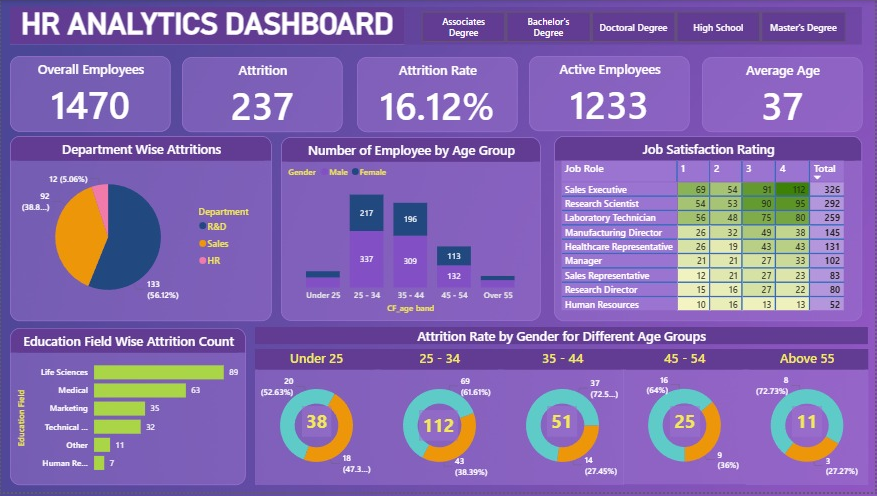

Layout of this report page (visuals, bound fields, positions):
{"tool":"powerbi","page":{"name":"Page 1","canvas":[1280,720],"ordinal":0},"visuals":[{"type":"card","title":"Overall Employees","fields":{"Values":["Sum(HR data.Employee Count)"]},"box":[13,82.1,235,110.9],"z":0},{"type":"card","title":"Attrition","fields":{"Values":["Sum(HR data.Attrition Count)"]},"box":[265,83.5,234.7,110],"z":1000},{"type":"card","title":"Attrition Rate","fields":{"Values":["HR data.Attrition Rate"]},"box":[521.3,83.5,234.7,110],"z":2000},{"type":"card","title":"Active Employees","fields":{"Values":["HR data.Active Employees"]},"box":[773.3,82.1,235,110],"z":3000},{"type":"card","title":"Average Age","fields":{"Values":["Avg(HR data.Age)"]},"box":[1025.3,83.5,235,110],"z":4000},{"type":"pieChart","title":"Department Wise Attritions","fields":{"Category":["HR data.Department"],"Y":["Sum(HR data.Attrition Count)"]},"box":[13,198.7,383,270.7],"z":5000},{"type":"columnChart","title":"Number of Employee by Age Group","fields":{"Category":["HR data.CF_age band"],"Y":["Sum(HR data.Employee Count)"],"Series":["HR data.Gender"]},"box":[410.4,200.2,380.2,269.3],"z":6000},{"type":"pivotTable","title":"Job Satisfaction Rating","fields":{"Rows":["HR data.Job Role"],"Values":["Sum(HR data.Employee Count)"],"Columns":["HR data.Job Satisfaction"]},"box":[809.3,198.7,450.7,270.7],"z":7000},{"type":"barChart","title":"Education Field Wise Attrition Count ","fields":{"Category":["HR data.Education Field"],"Y":["Sum(HR data.Attrition Count)"]},"box":[13,480,345,230],"z":8000},{"type":"donutChart","title":"Under 25","fields":{"Category":["HR data.Gender"],"Y":["Sum(HR data.Attrition Count)"],"Series":["HR data.CF_age band"]},"box":[371.5,511.2,180,198.7],"z":9000},{"type":"textbox","title":"Attrition Rate by Gender for Different Age Groups","box":[371.2,478.7,897,25],"z":10000},{"type":"donutChart","title":"25 - 34","fields":{"Category":["HR data.Gender"],"Y":["Sum(HR data.Attrition Count)"],"Series":["HR data.CF_age band"]},"box":[551,511.2,180,198.7],"z":11000},{"type":"donutChart","title":"35 - 44","fields":{"Category":["HR data.Gender"],"Y":["Sum(HR data.Attrition Count)"],"Series":["HR data.CF_age band"]},"box":[731.5,511.2,180,198.7],"z":12000},{"type":"donutChart","title":"45 - 54","fields":{"Category":["HR data.Gender"],"Y":["Sum(HR data.Attrition Count)"],"Series":["HR data.CF_age band"]},"box":[910.4,511,180,198],"z":13000},{"type":"donutChart","title":"Above 55","fields":{"Category":["HR data.Gender"],"Y":["Sum(HR data.Attrition Count)"],"Series":["HR data.CF_age band"]},"box":[1090.1,511.2,178.6,198.7],"z":14000},{"type":"card","title":"Attrition","fields":{"Values":["Sum(HR data.Attrition Count)"]},"box":[440.1,594.6,43,45],"z":15000},{"type":"card","title":"Attrition","fields":{"Values":["Sum(HR data.Attrition Count)"]},"box":[611,600,57.1,45.4],"z":16000},{"type":"card","title":"Attrition","fields":{"Values":["Sum(HR data.Attrition Count)"]},"box":[799.6,594.6,43.7,45.4],"z":17000},{"type":"card","title":"Attrition","fields":{"Values":["Sum(HR data.Attrition Count)"]},"box":[979.3,594.6,43.7,45.4],"z":18000},{"type":"card","title":"Attrition","fields":{"Values":["Sum(HR data.Attrition Count)"]},"box":[1157.4,594.6,43.7,45.4],"z":19000},{"type":"textbox","title":"HR ANALYTICS DASHBOARD","box":[13,10.1,577.4,54.7],"z":20000},{"type":"slicer","fields":{"Values":["HR data.Education"]},"box":[590.4,10.1,669.6,54.7],"z":21000}]}

Visuals, with their boxes in screenshot pixels (x1, y1, x2, y2), scaled from the page's 1280x720 canvas onto the 877x496 screenshot:
"Overall Employees" card: x1=9 y1=57 x2=170 y2=133
"Attrition" card: x1=182 y1=58 x2=342 y2=133
"Attrition Rate" card: x1=357 y1=58 x2=518 y2=133
"Active Employees" card: x1=530 y1=57 x2=691 y2=132
"Average Age" card: x1=702 y1=58 x2=864 y2=133
"Department Wise Attritions" pieChart: x1=9 y1=137 x2=271 y2=323
"Number of Employee by Age Group" columnChart: x1=281 y1=138 x2=542 y2=323
"Job Satisfaction Rating" pivotTable: x1=554 y1=137 x2=863 y2=323
"Education Field Wise Attrition Count " barChart: x1=9 y1=331 x2=245 y2=489
"Under 25" donutChart: x1=255 y1=352 x2=378 y2=489
"Attrition Rate by Gender for Different Age Groups" textbox: x1=254 y1=330 x2=869 y2=347
"25 - 34" donutChart: x1=378 y1=352 x2=501 y2=489
"35 - 44" donutChart: x1=501 y1=352 x2=625 y2=489
"45 - 54" donutChart: x1=624 y1=352 x2=747 y2=488
"Above 55" donutChart: x1=747 y1=352 x2=869 y2=489
"Attrition" card: x1=302 y1=410 x2=331 y2=441
"Attrition" card: x1=419 y1=413 x2=458 y2=445
"Attrition" card: x1=548 y1=410 x2=578 y2=441
"Attrition" card: x1=671 y1=410 x2=701 y2=441
"Attrition" card: x1=793 y1=410 x2=823 y2=441
"HR ANALYTICS DASHBOARD" textbox: x1=9 y1=7 x2=405 y2=45
slicer - HR data.Education: x1=405 y1=7 x2=863 y2=45
